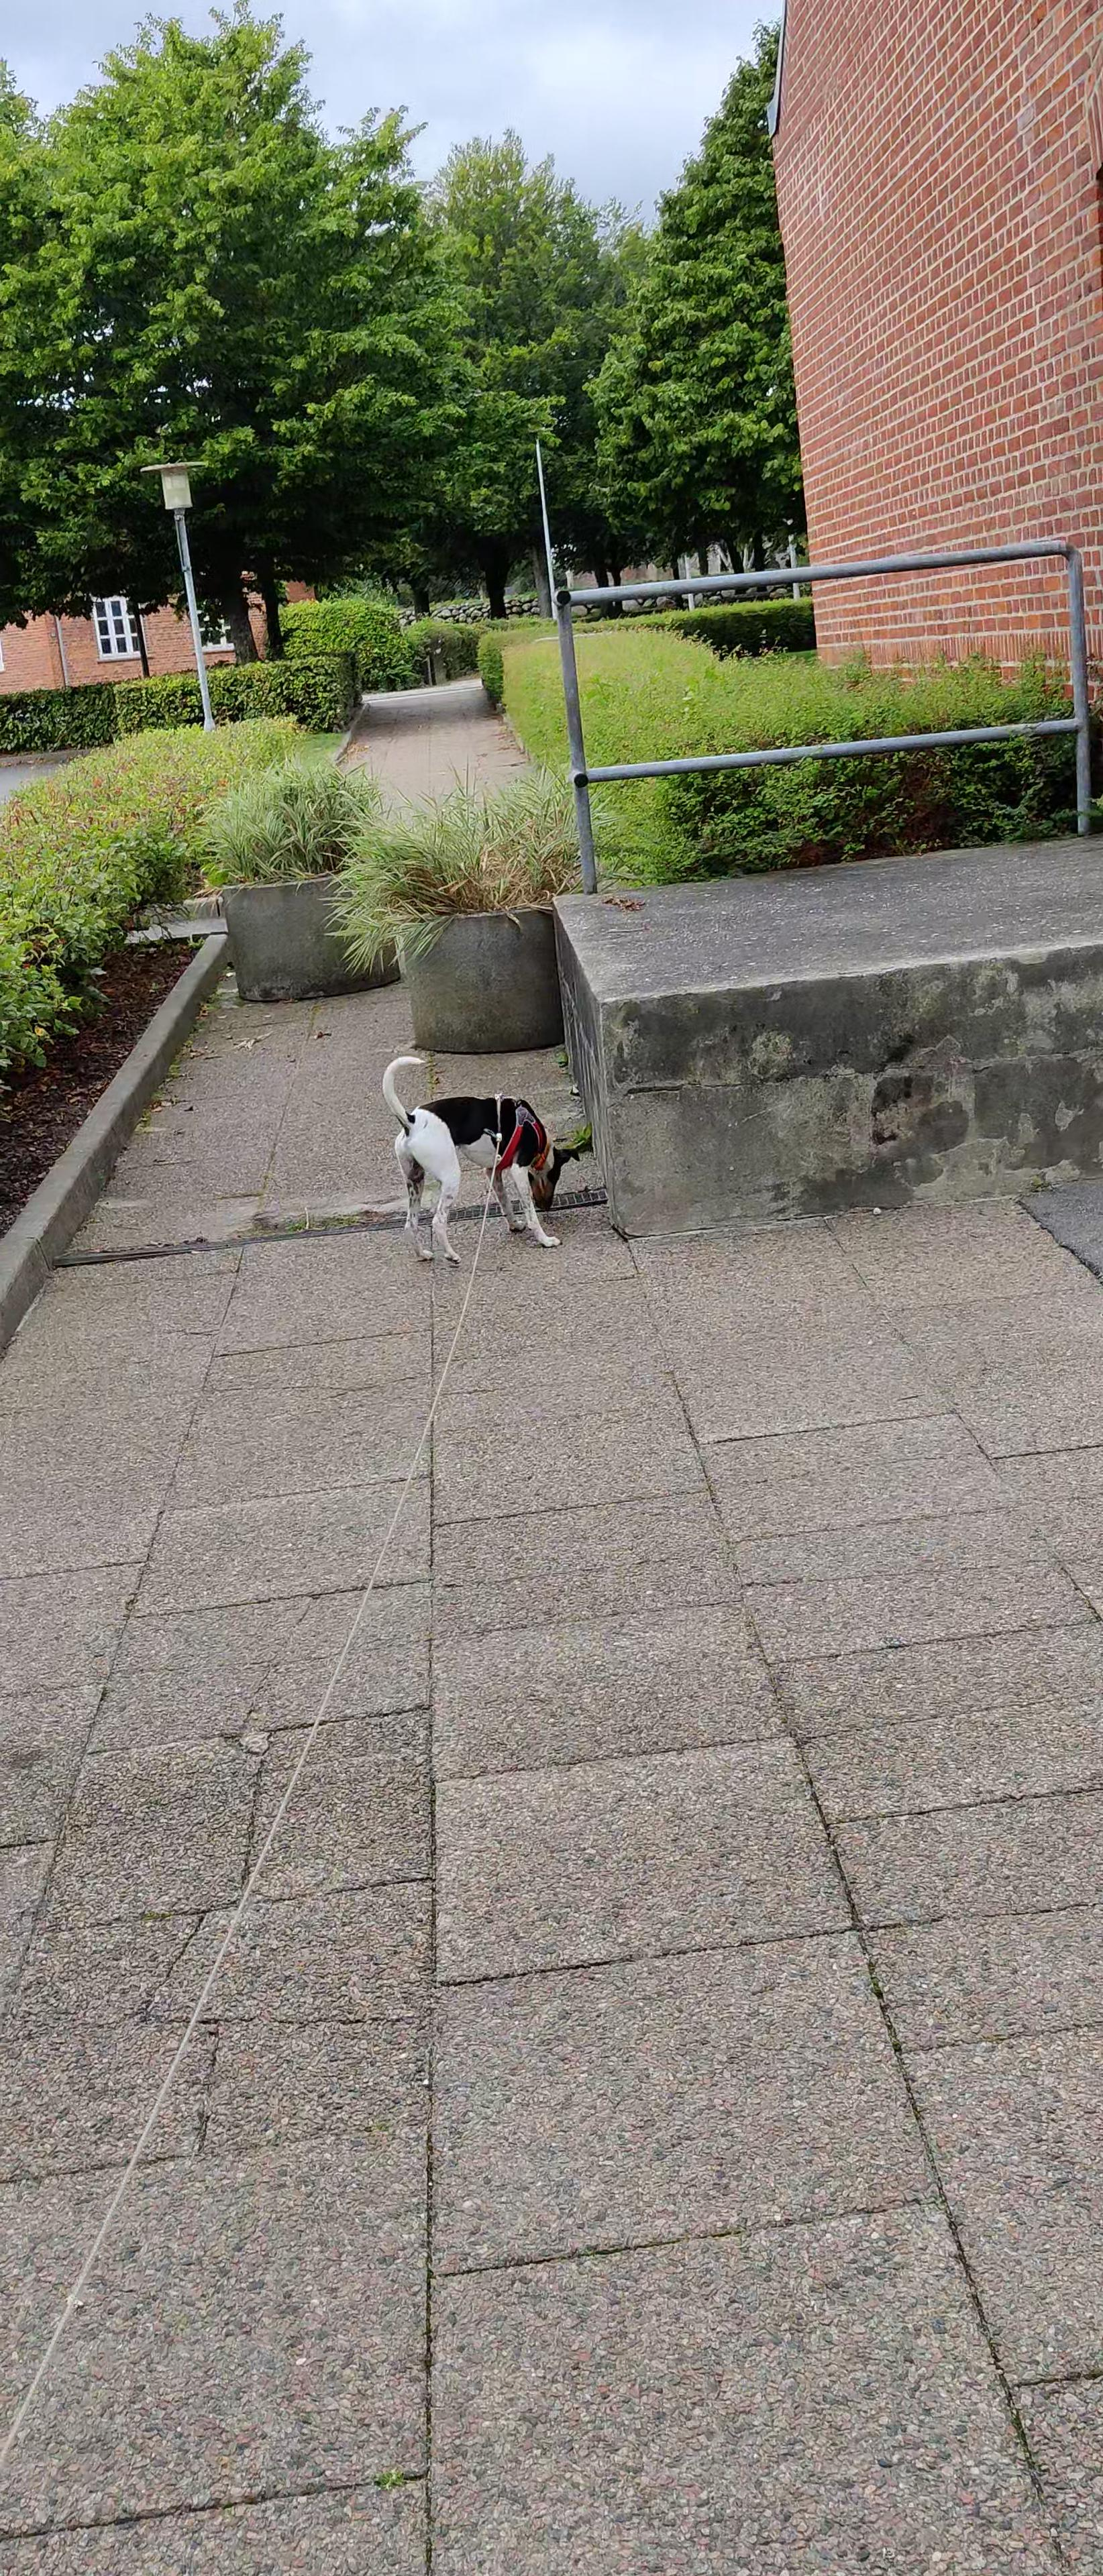Dog: (362, 1051, 597, 1267)
